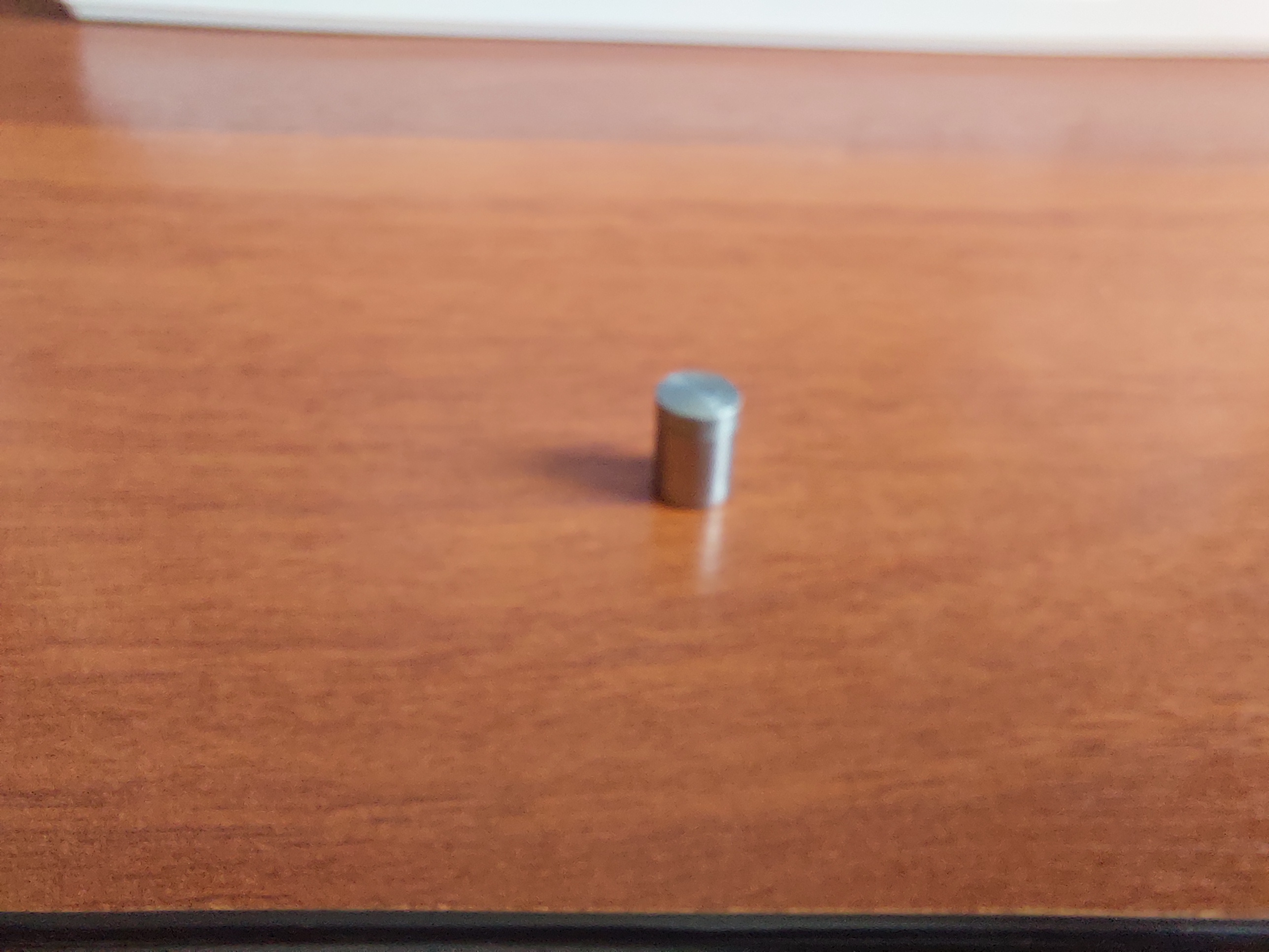tablet: (647, 358, 743, 515)
